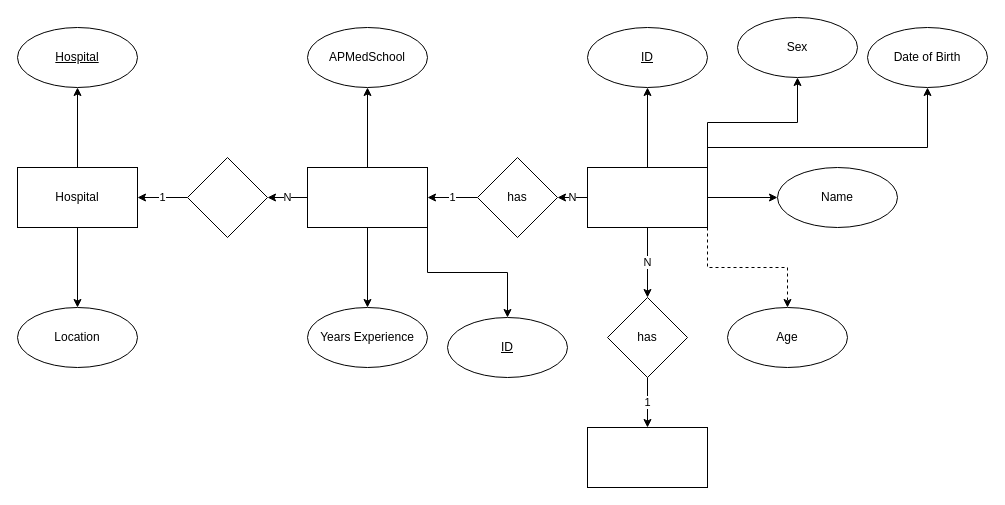
This 1005x505 diagram has some shape labels left out. The shapes that lost their labels are listed below. From the top down, each one's box as (x1, y1, x2, y2) in pixels, then its label:
(186, 156, 268, 238): WorksAt
(306, 166, 428, 228): AttendingPhysician
(586, 166, 708, 228): Patient
(586, 426, 708, 488): Condition
